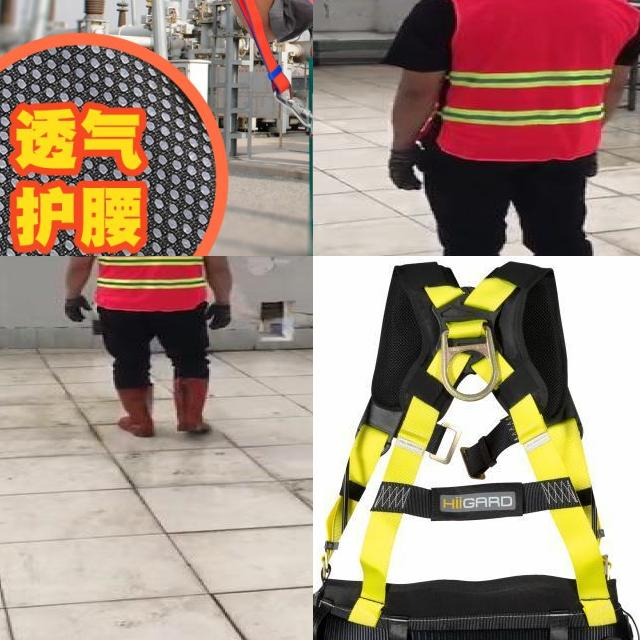Harness: (313, 262, 634, 640)
boots: (110, 384, 160, 436), (170, 375, 212, 436)
hand_glove: (386, 145, 427, 189), (206, 303, 232, 331), (63, 297, 90, 322)
person: (369, 0, 640, 256), (55, 256, 240, 444)
vest: (444, 0, 640, 160), (88, 256, 209, 312)
